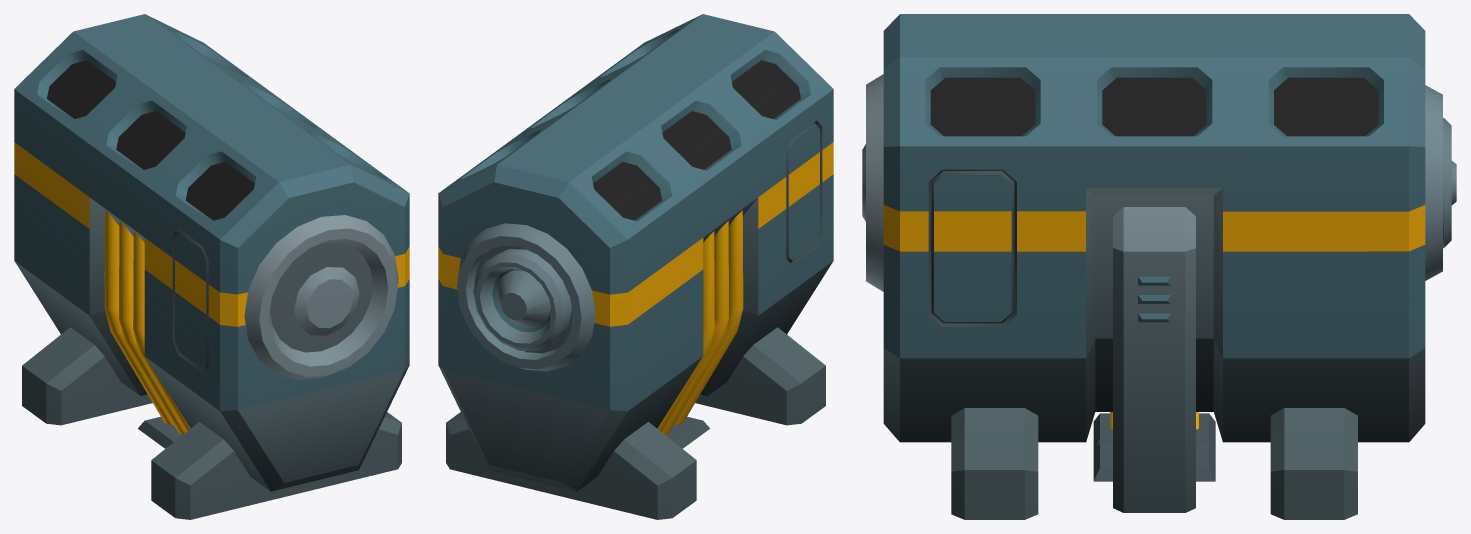
Rendered from Generator_007.fbx.
The picture shows the model from 3 angles, left to right: view 1: azimuth 30°, elevation 25°; view 2: azimuth 150°, elevation 25°; view 3: azimuth 270°, elevation 25°; orthographic projection. The views are drawn at different scales.
Parts seen in each view (by area): view 1: Generator_007; view 2: Generator_007; view 3: Generator_007.
Boxes of the visible parts, left/top/right/bottom form: Generator_007: left=14, top=14, right=409, bottom=519; Generator_007: left=438, top=14, right=833, bottom=519; Generator_007: left=862, top=14, right=1456, bottom=519.
Size of the model in its own units: 132 by 243 by 188.
